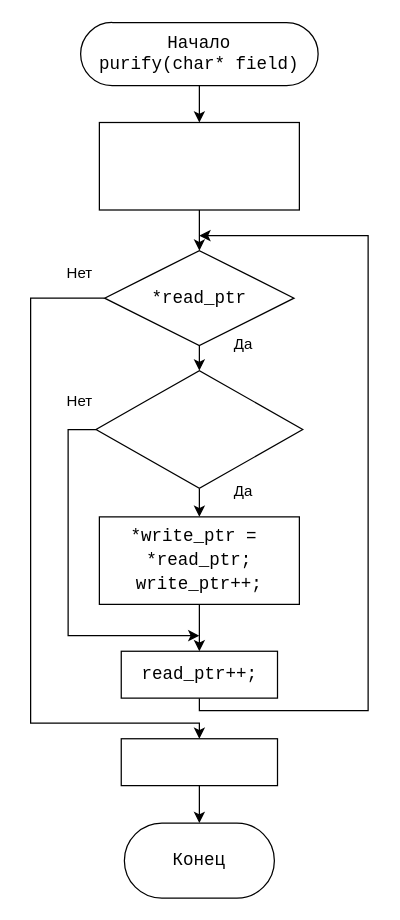
Some shapes in this 400 by 920 pixel diagram are drawn without their labels. Here are the shapes that lost their labels. From the top down, the centre of each, then its label:
(x=198, y=165): char* read_ptr = field; char* write_ptr = field;
(x=199, y=428): *read_ptr != ' ' && *read_ptr != '\t'
(x=199, y=762): *write_ptr = '\0'
